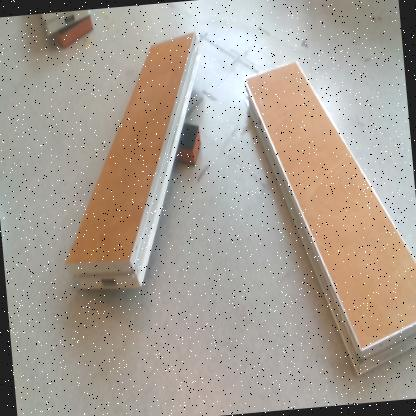Stairs: (245, 60, 416, 379), (66, 31, 201, 292), (41, 11, 91, 38)
